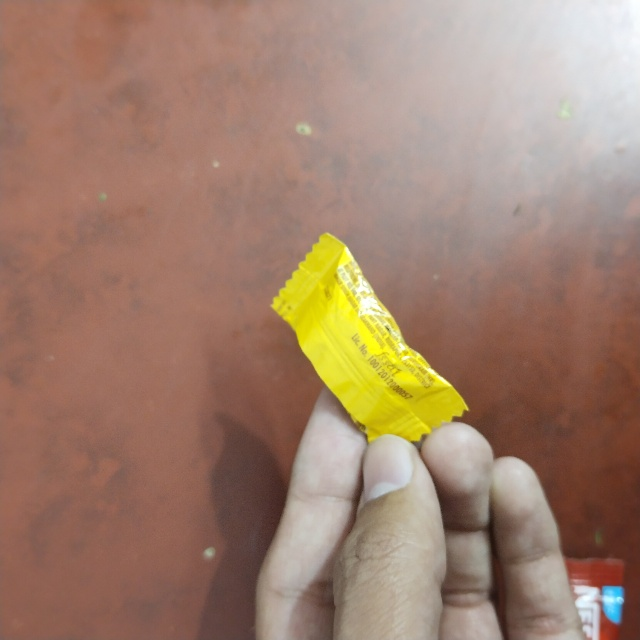Alpenlibe Creamfills: (248, 288, 351, 518)
